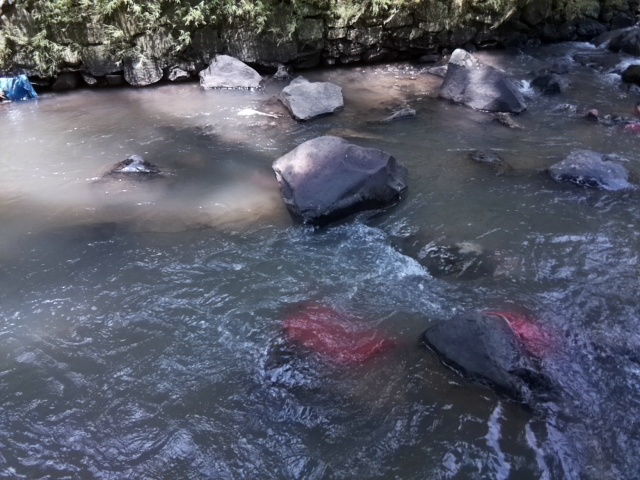Sampah_Plastik: (1, 73, 45, 100)
